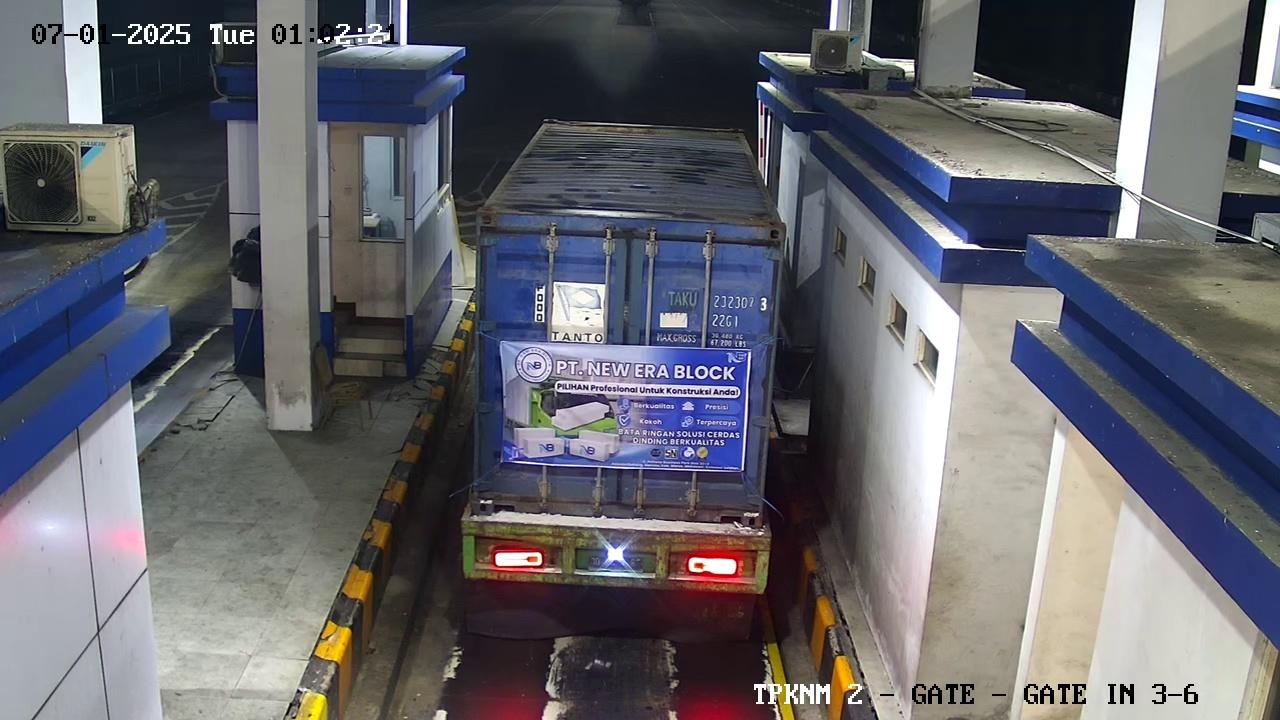Container_ID: (646, 279, 779, 340)
